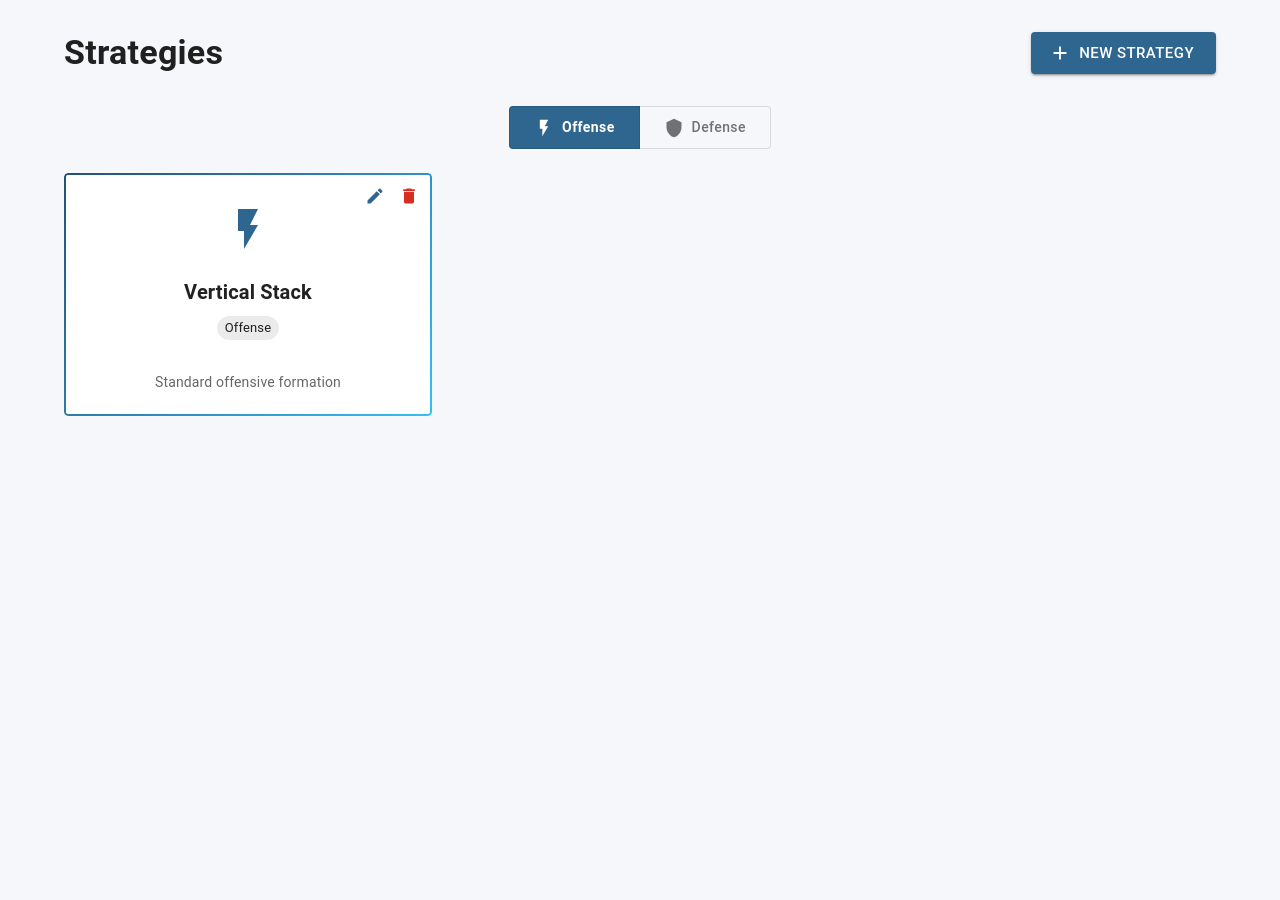
Test: StrategiesPage › allows creating a new strategy
This screenshot has width=1280, height=900.
Expected: the heading "Strategies" is shown, [64,32,223,74]
// Click create button
Click the button "New Strategy".
click(1124, 53)  # box [1031,32,1216,74]
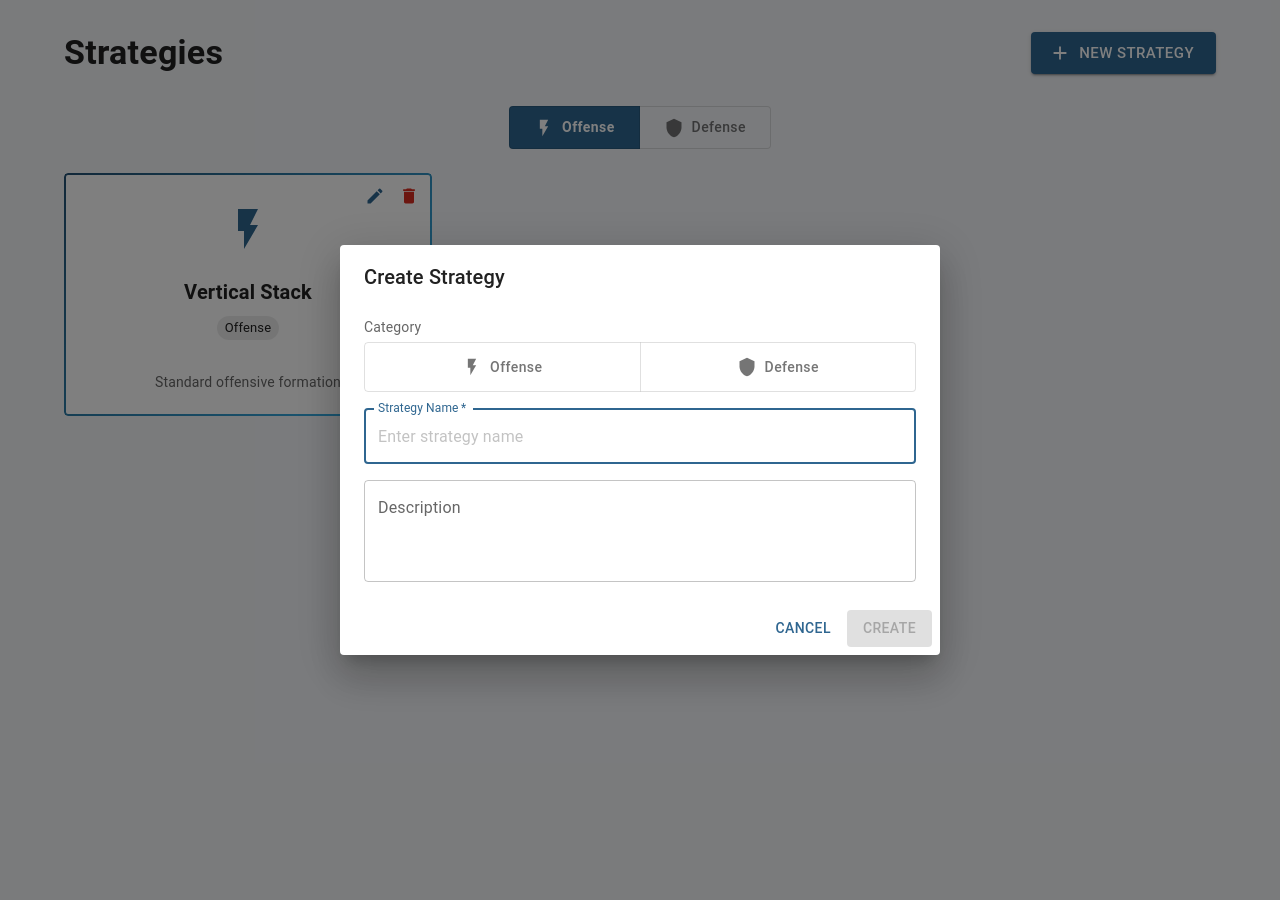
Expected: the heading "Create Strategy" is shown, [364,265,505,289]
